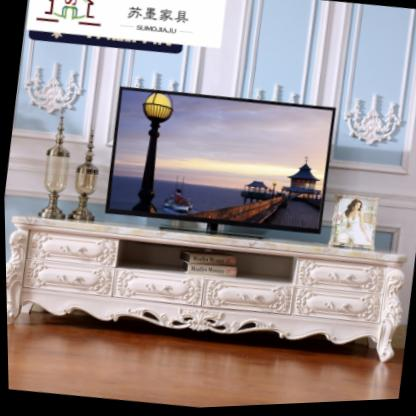TV stand: (4, 193, 410, 381)
